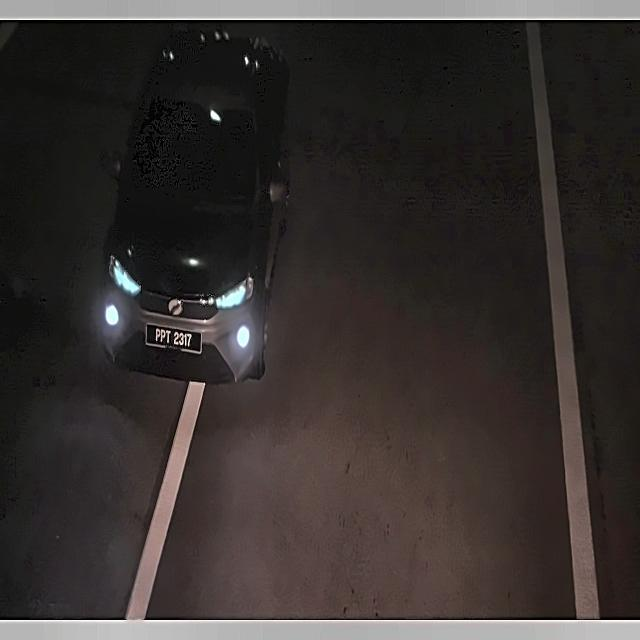car: (144, 317, 205, 358)
